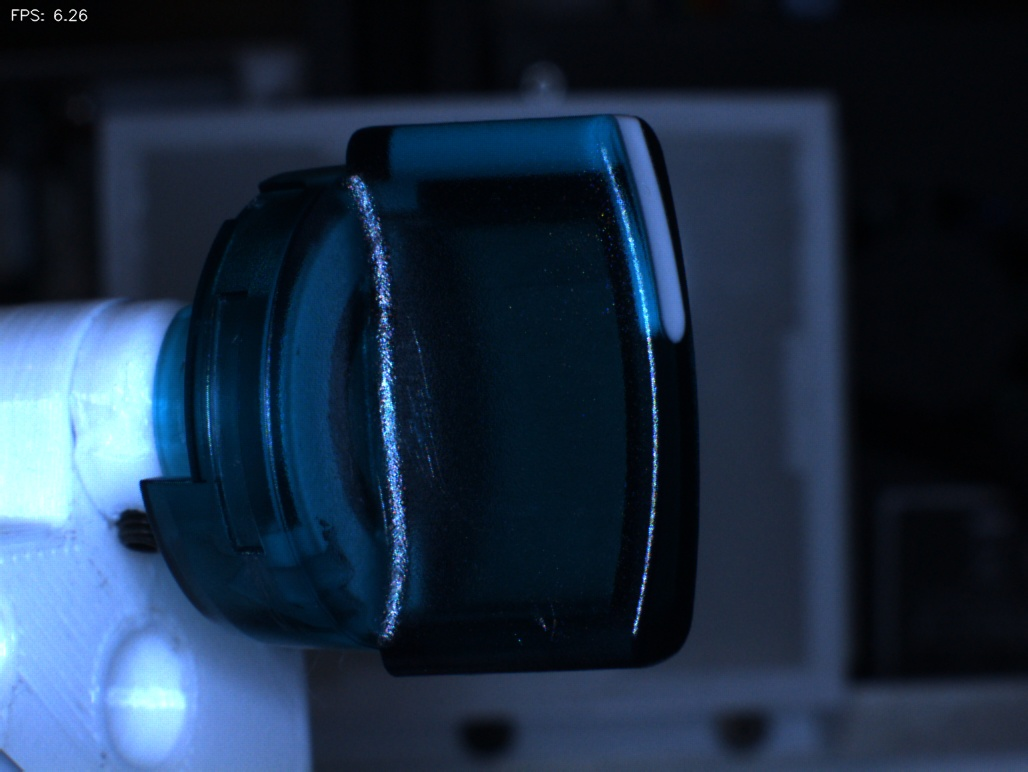Givrage: (407, 320, 465, 500), (505, 590, 571, 649)
